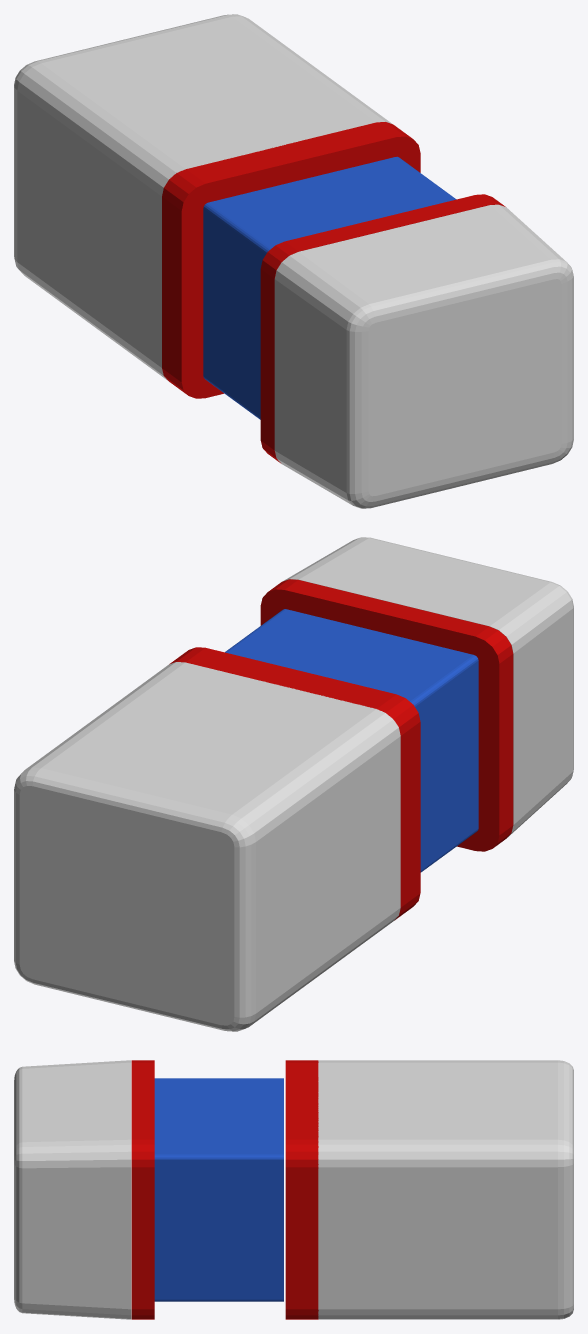
File: riegl_miniVUX.obj
3 renders of one model, top to bottom at view 1: azimuth 30°, elevation 25°; view 2: azimuth 150°, elevation 25°; view 3: azimuth 270°, elevation 25°, orthographic. The views are drawn at different scales.
Parts seen in each view (by area): view 1: Cube.005, Cube.001, Cube.003, Cube.002, Cube.004; view 2: Cube.001, Cube.005, Cube.003, Cube.004, Cube.002; view 3: Cube.001, Cube.005, Cube.003, Cube.002, Cube.004.
Boxes of the visible parts, x1,y1,x2,y2 form: Cube.005: [274, 204, 573, 508]; Cube.001: [14, 14, 392, 380]; Cube.003: [203, 156, 456, 419]; Cube.002: [162, 122, 420, 398]; Cube.004: [260, 194, 505, 463]; Cube.001: [14, 662, 400, 1031]; Cube.005: [282, 537, 573, 836]; Cube.003: [225, 609, 478, 872]; Cube.004: [260, 579, 513, 851]; Cube.002: [169, 647, 420, 920]; Cube.001: [318, 1060, 573, 1319]; Cube.005: [14, 1060, 131, 1319]; Cube.003: [154, 1078, 283, 1301]; Cube.002: [285, 1060, 318, 1319]; Cube.004: [131, 1060, 154, 1319].
Size of the model in its own units: 0.099 by 0.085 by 0.2427.
